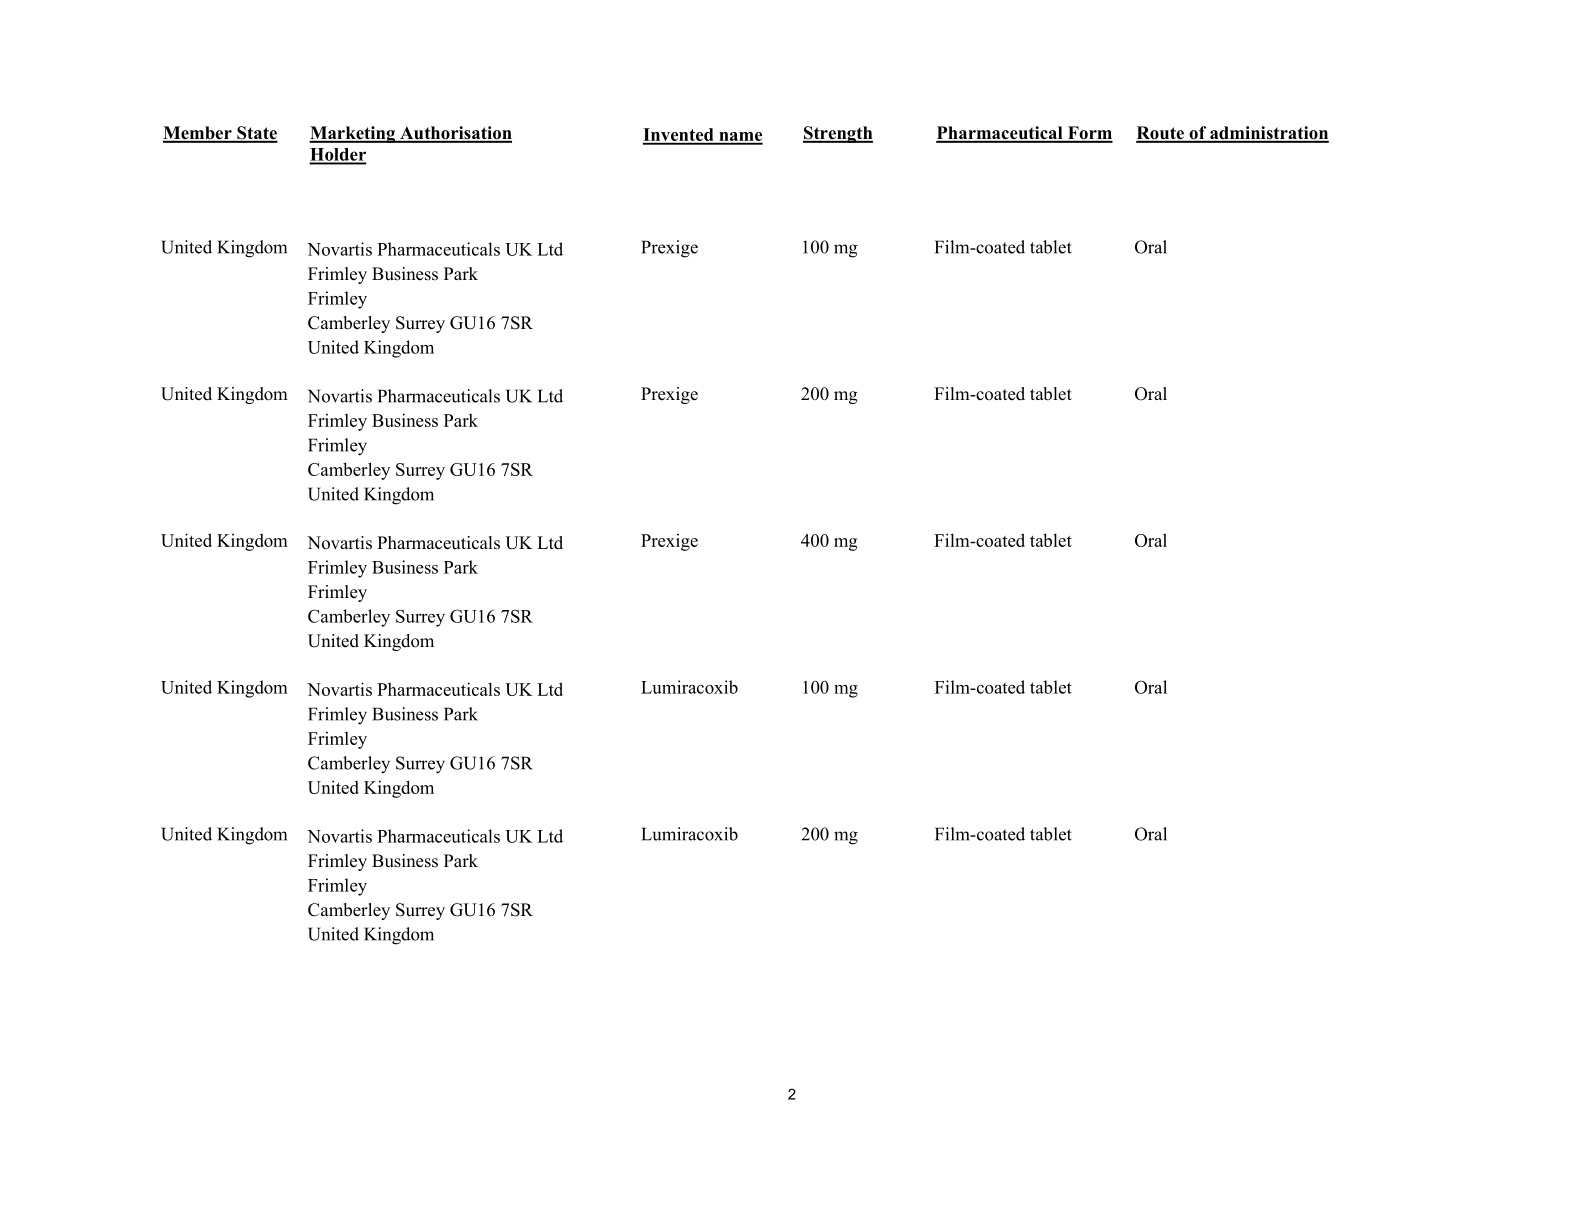nolines: (157, 118, 1335, 948)
